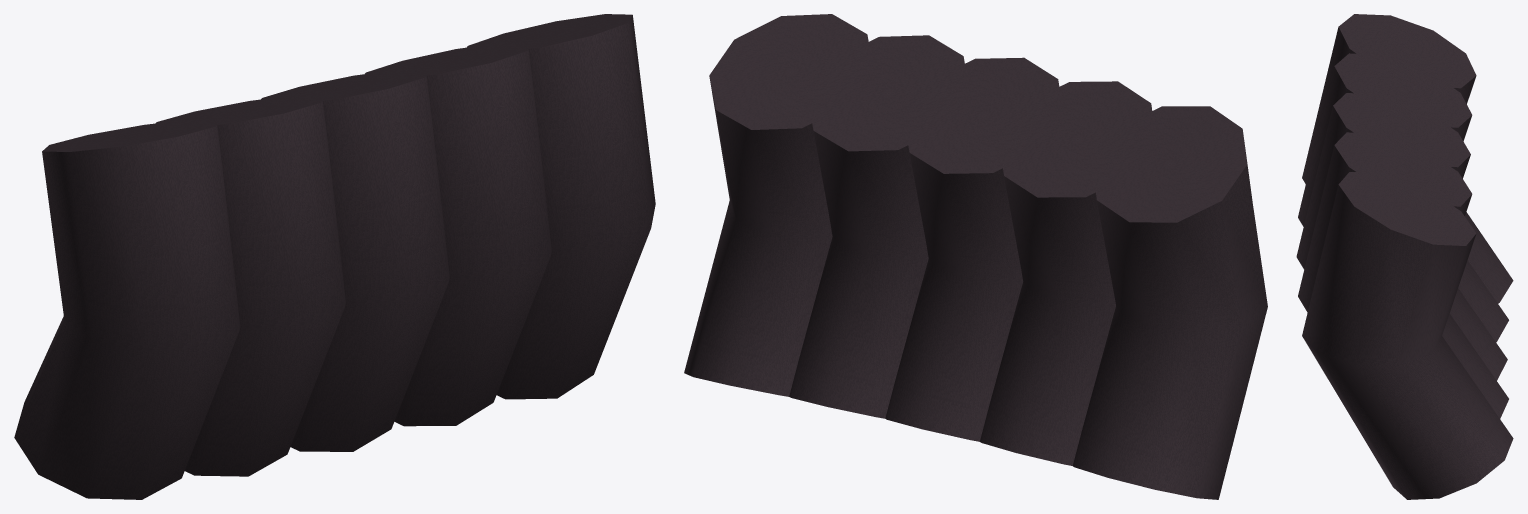
Rendered from facial_toothbrush_default.gltf.
The picture shows the model from 3 angles, left to right: view 1: azimuth 30°, elevation 25°; view 2: azimuth 150°, elevation 25°; view 3: azimuth 270°, elevation 25°; orthographic projection. The views are drawn at different scales.
Parts seen in each view (by area): view 1: Toothbrush Moustache; view 2: Toothbrush Moustache; view 3: Toothbrush Moustache.
Part boxes in pixels (<box>): Toothbrush Moustache: <box>14,14,655,499</box>; Toothbrush Moustache: <box>684,14,1267,499</box>; Toothbrush Moustache: <box>1296,14,1513,499</box>.
Bounding box in the file's own units: 0.0434 × 0.0286 × 0.0186.
Materials: 1 (1 with a texture image).
